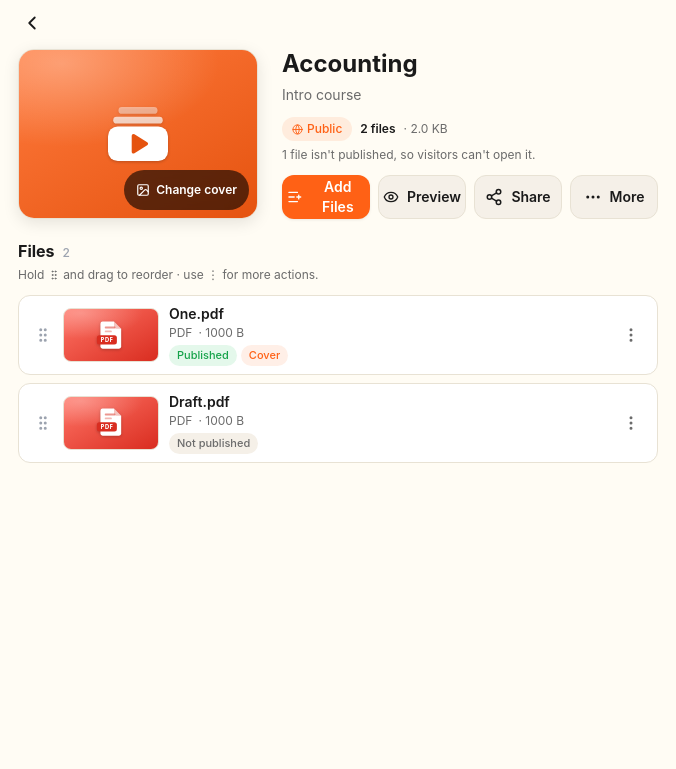
Creator playlist page — file actions › a failed publish change is reported and the row is unchanged
Click the button with test id "action-menu-button" at (631, 423), box [609,401,653,445]
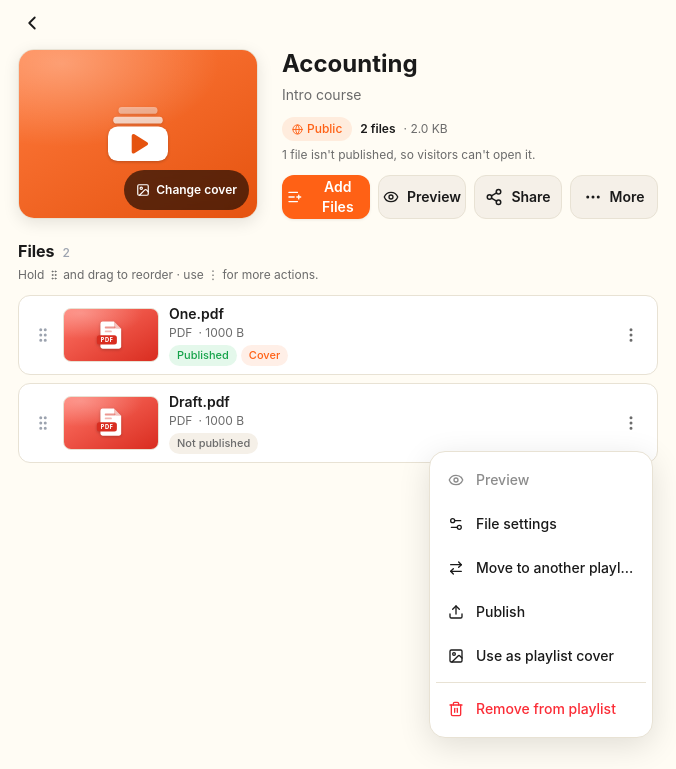
Click the menu item "Publish" at (541, 612), box [436,590,646,634]
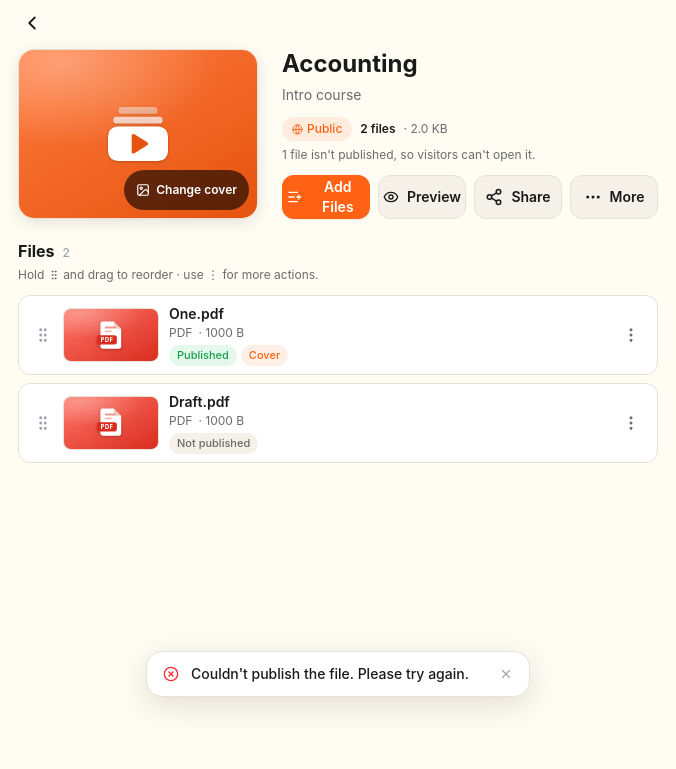
Expected: the text "Not published" is shown, [169,433,258,454]
Expected: the text "Couldn't publish" is shown, [191,665,469,682]
